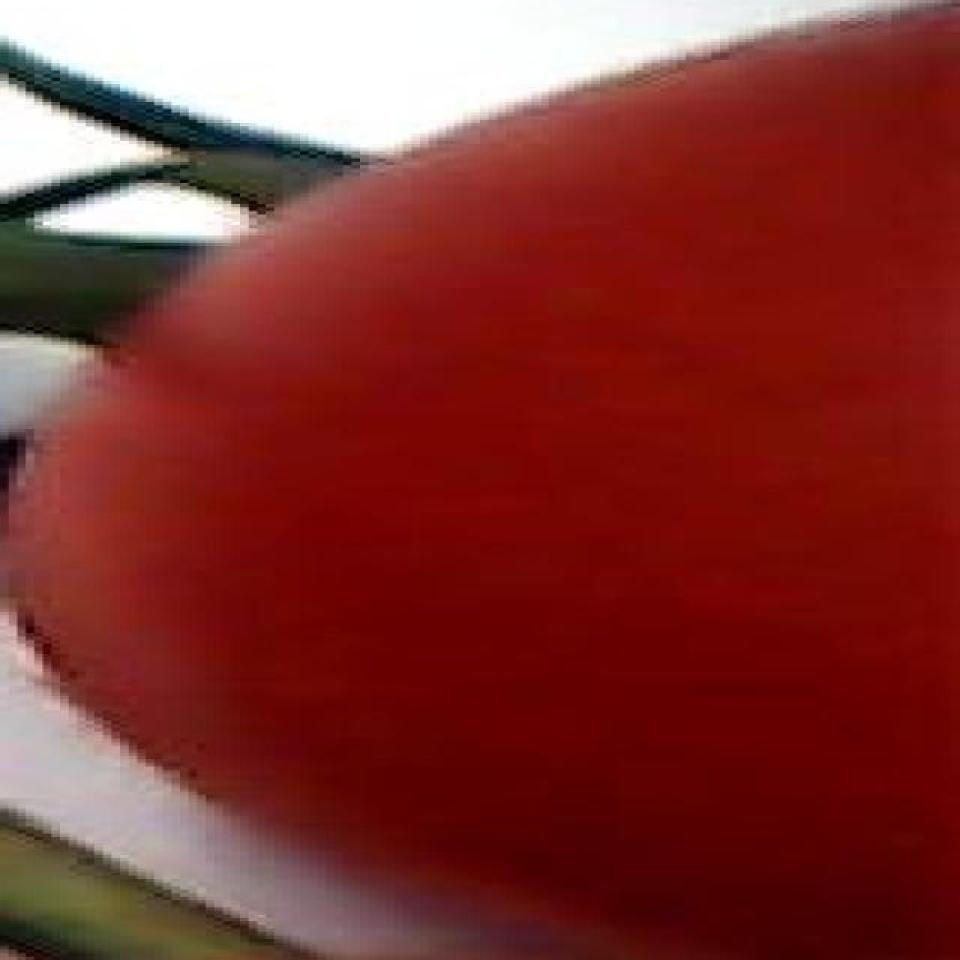Healthy: (4, 0, 960, 960)
